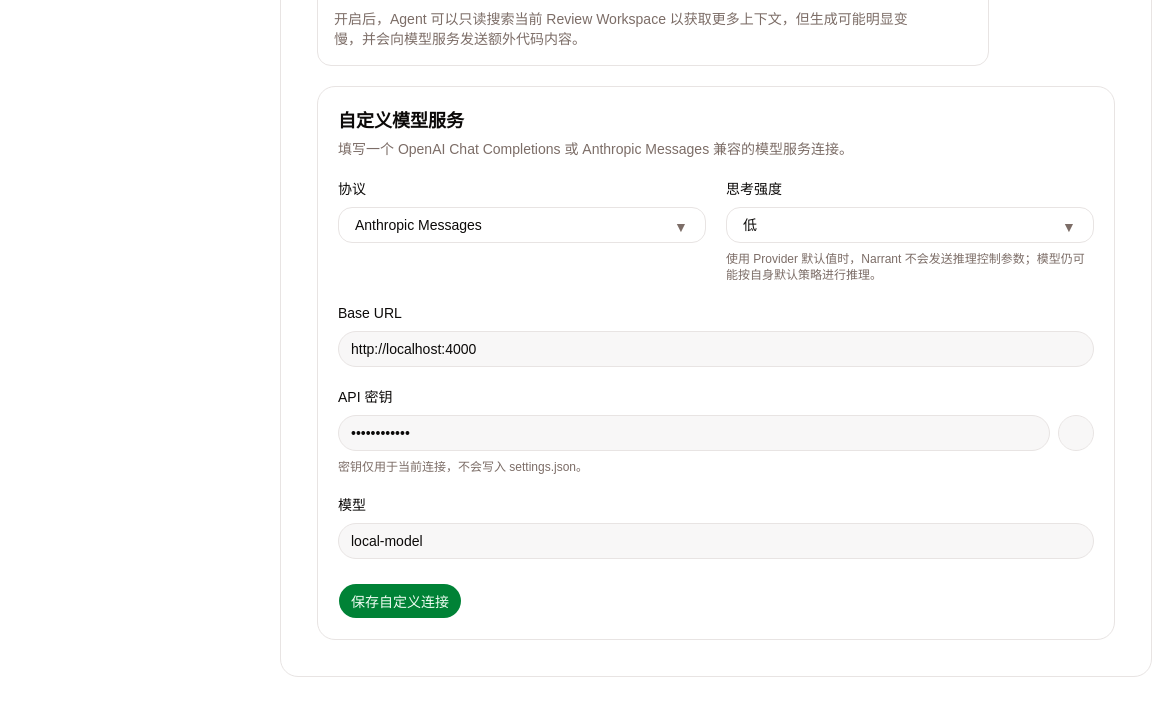
Scenario: Settings application-shell UI › Custom API key 默认隐藏，并通过有名称的按钮切换显示
The width and height of the screenshot is (1152, 709).
(page scrolled)
Expected: the form with test id "custom-provider-editor" is shown, x1=317 y1=86 x2=1115 y2=640
Click the button named "显示 API 密钥" at (1076, 433), box x1=1058 y1=415 x2=1094 y2=451
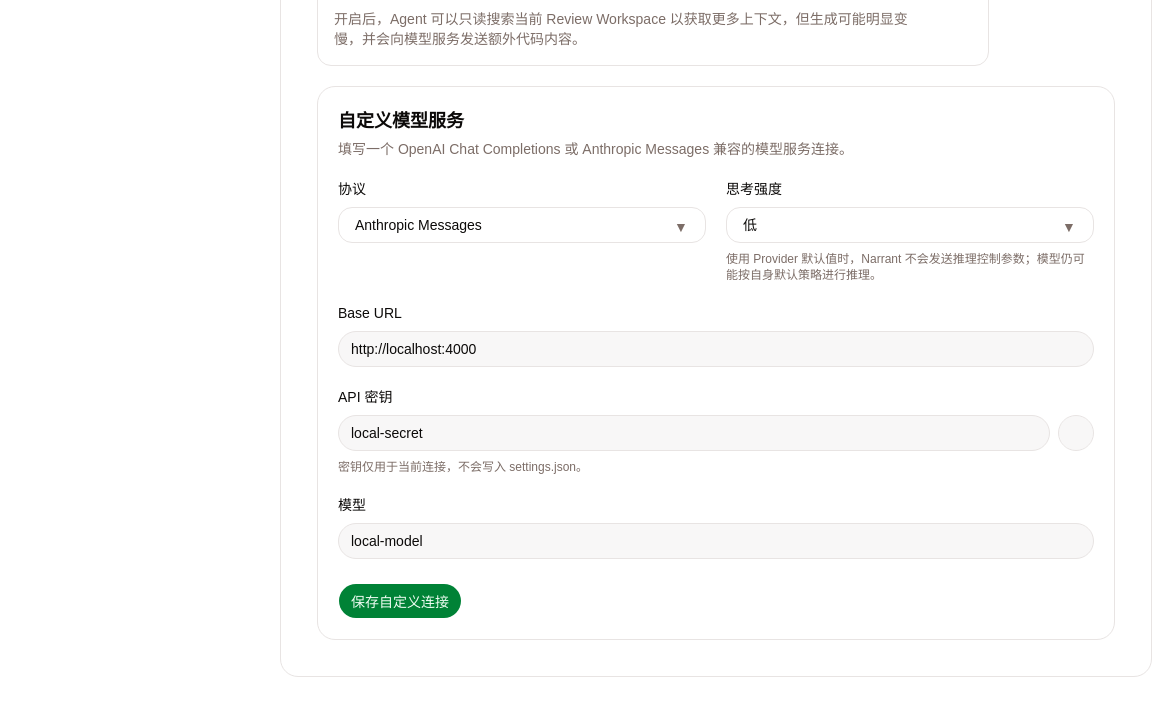
Expected: the field with test id "custom-api-key" shows its text, x1=338 y1=415 x2=1050 y2=451
Click the button named "隐藏 API 密钥" at (1076, 433), box x1=1058 y1=415 x2=1094 y2=451
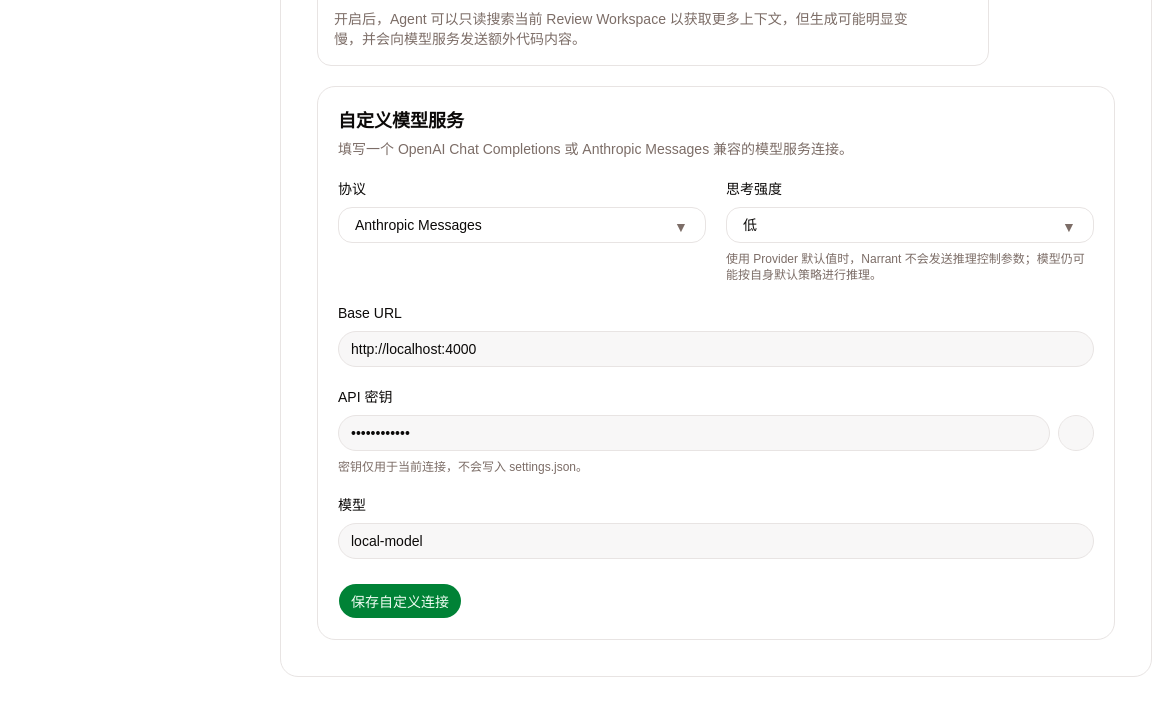
Expected: the password field with test id "custom-api-key" hides its text, x1=338 y1=415 x2=1050 y2=451
